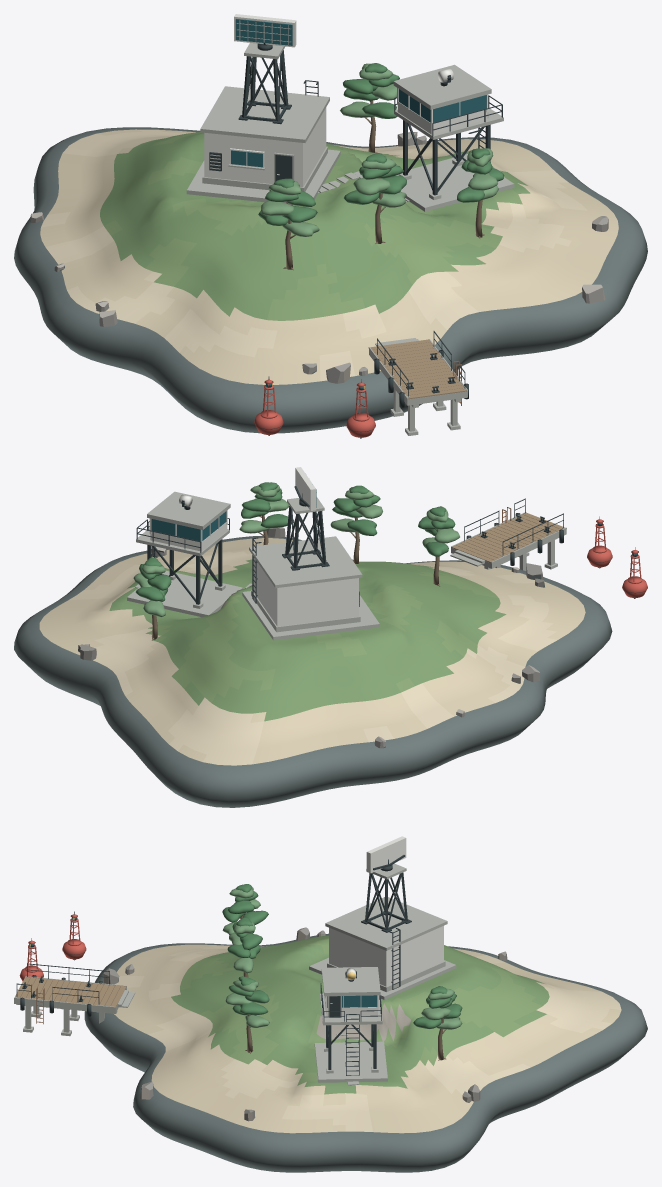
The model's file is ENV_RadarOutpost__Seed20261099.fbx.
3 renders of one model, top to bottom at view 1: azimuth 30°, elevation 25°; view 2: azimuth 150°, elevation 25°; view 3: azimuth 270°, elevation 25°, orthographic. The views are drawn at different scales.
Parts seen in each view (by area): view 1: TerrainShell, ENV_RadarStation_0_Visual.001, ENV_WatchPost_1_Visual, ENV_Jetty_6_Visual, ENV_CoastalPine_2_Visual.001, ENV_CoastalPine_5_Visual, ENV_CoastalPine_4_Visual, Decor_Visual.001, ENV_CoastalPine_3_Visual.001, SearchArrayHead_Visual.001, ENV_NavigationBuoy_7_Visual, ENV_NavigationBuoy_8_Visual; view 2: TerrainShell, ENV_RadarStation_0_Visual.001, ENV_WatchPost_1_Visual, ENV_Jetty_6_Visual, ENV_CoastalPine_4_Visual, ENV_CoastalPine_3_Visual.001, ENV_CoastalPine_5_Visual, ENV_CoastalPine_2_Visual.001, Decor_Visual.001, ENV_NavigationBuoy_8_Visual, ENV_NavigationBuoy_7_Visual, SearchArrayHead_Visual.001; view 3: TerrainShell, ENV_RadarStation_0_Visual.001, ENV_WatchPost_1_Visual, ENV_Jetty_6_Visual, ENV_CoastalPine_5_Visual, ENV_CoastalPine_3_Visual.001, ENV_CoastalPine_4_Visual, Decor_Visual.001, ENV_CoastalPine_2_Visual.001, SearchArrayHead_Visual.001, ENV_NavigationBuoy_7_Visual.
Boxes of the visible parts, bbox=[...] form: TerrainShell: bbox=[14, 127, 647, 433]; ENV_RadarStation_0_Visual.001: bbox=[186, 43, 340, 205]; ENV_WatchPost_1_Visual: bbox=[393, 64, 514, 211]; ENV_Jetty_6_Visual: bbox=[368, 331, 468, 435]; ENV_CoastalPine_2_Visual.001: bbox=[258, 178, 319, 270]; ENV_CoastalPine_5_Visual: bbox=[340, 63, 399, 152]; ENV_CoastalPine_4_Visual: bbox=[344, 153, 406, 243]; Decor_Visual.001: bbox=[30, 132, 608, 383]; ENV_CoastalPine_3_Visual.001: bbox=[457, 148, 504, 238]; SearchArrayHead_Visual.001: bbox=[234, 14, 296, 47]; ENV_NavigationBuoy_7_Visual: bbox=[254, 376, 283, 435]; ENV_NavigationBuoy_8_Visual: bbox=[346, 379, 375, 438]; TerrainShell: bbox=[14, 536, 612, 807]; ENV_RadarStation_0_Visual.001: bbox=[242, 497, 379, 640]; ENV_WatchPost_1_Visual: bbox=[127, 491, 242, 616]; ENV_Jetty_6_Visual: bbox=[450, 498, 566, 570]; ENV_CoastalPine_4_Visual: bbox=[330, 485, 382, 563]; ENV_CoastalPine_3_Visual.001: bbox=[239, 482, 294, 544]; ENV_CoastalPine_5_Visual: bbox=[133, 557, 171, 640]; ENV_CoastalPine_2_Visual.001: bbox=[418, 506, 459, 586]; Decor_Visual.001: bbox=[78, 527, 544, 748]; ENV_NavigationBuoy_8_Visual: bbox=[587, 516, 612, 568]; ENV_NavigationBuoy_7_Visual: bbox=[622, 547, 647, 598]; SearchArrayHead_Visual.001: bbox=[294, 467, 316, 510]; TerrainShell: bbox=[84, 933, 647, 1172]; ENV_RadarStation_0_Visual.001: bbox=[309, 863, 456, 999]; ENV_WatchPost_1_Visual: bbox=[314, 967, 387, 1082]; ENV_Jetty_6_Visual: bbox=[14, 963, 135, 1038]; ENV_CoastalPine_5_Visual: bbox=[413, 986, 462, 1060]; ENV_CoastalPine_3_Visual.001: bbox=[225, 976, 269, 1053]; ENV_CoastalPine_4_Visual: bbox=[227, 917, 262, 977]; Decor_Visual.001: bbox=[103, 927, 507, 1121]; ENV_CoastalPine_2_Visual.001: bbox=[222, 884, 268, 934]; SearchArrayHead_Visual.001: bbox=[366, 836, 406, 873]; ENV_NavigationBuoy_7_Visual: bbox=[62, 911, 86, 960].
Bounding box in the file's own units: 2964 × 1351 × 3654.
